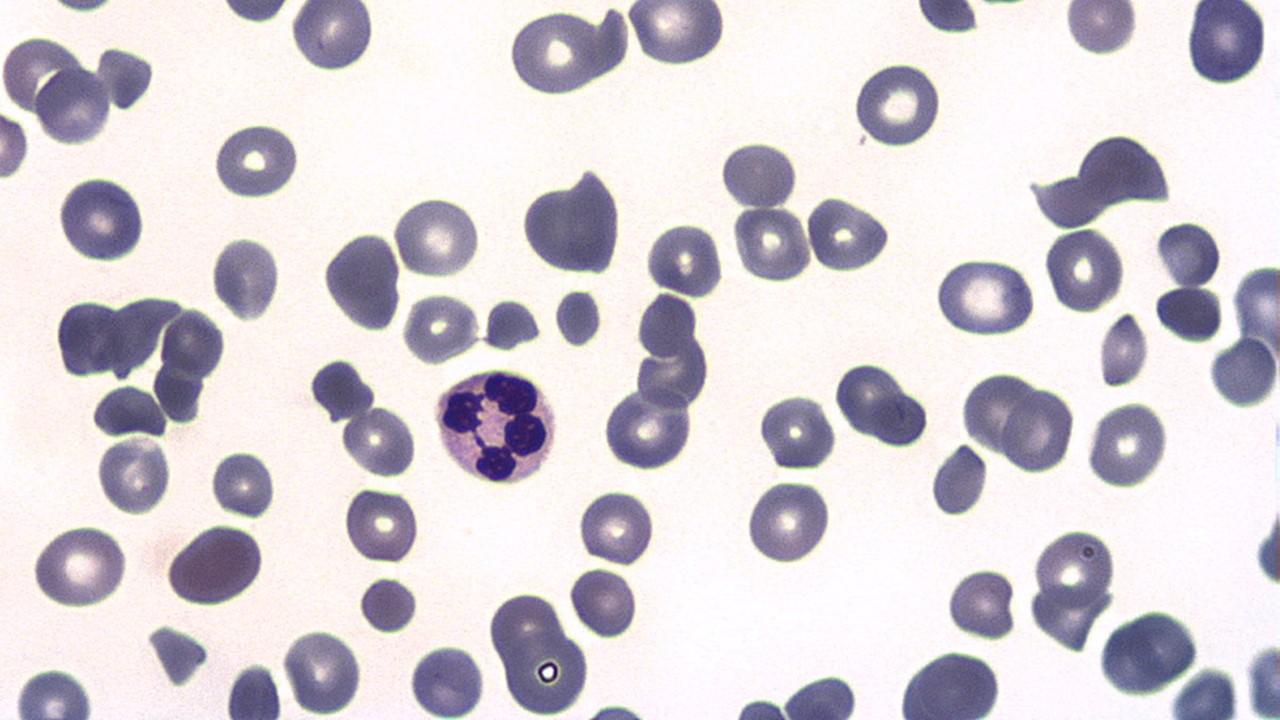Platelets: (56, 172, 148, 266), (210, 118, 305, 200), (206, 234, 283, 322), (95, 436, 173, 518), (717, 138, 799, 211), (942, 568, 1022, 640), (304, 356, 376, 423), (9, 664, 100, 716), (929, 444, 990, 521), (144, 621, 212, 690), (1061, 1, 1139, 58), (88, 383, 168, 438), (1095, 314, 1153, 385), (1155, 285, 1223, 344), (356, 574, 418, 636), (224, 660, 285, 716), (552, 287, 604, 349), (1244, 638, 1280, 718), (1250, 498, 1280, 590), (914, 2, 982, 34), (49, 0, 117, 14)
RBC: (505, 7, 608, 98), (932, 255, 1038, 340), (29, 522, 129, 610), (320, 228, 403, 332), (852, 57, 942, 152), (56, 170, 146, 265), (501, 624, 592, 714), (744, 475, 832, 567), (600, 386, 694, 472), (209, 118, 304, 203), (391, 192, 481, 281), (1085, 396, 1169, 491), (1183, 0, 1267, 90), (283, 623, 364, 716), (1044, 224, 1124, 316), (802, 194, 892, 274), (1032, 526, 1116, 610), (2, 32, 82, 118), (730, 202, 813, 283), (626, 1, 726, 68), (758, 390, 838, 473), (95, 432, 172, 517), (962, 368, 1038, 454), (342, 483, 420, 566), (644, 219, 724, 299), (575, 487, 656, 566), (35, 63, 112, 146), (1001, 387, 1073, 475), (290, 0, 375, 74), (408, 640, 490, 716), (400, 290, 479, 366), (716, 138, 798, 211), (340, 402, 418, 478), (488, 590, 563, 668), (833, 360, 906, 439), (945, 563, 1018, 641), (1028, 582, 1106, 652), (568, 562, 638, 640), (1207, 334, 1277, 410), (162, 302, 228, 381), (208, 446, 277, 520), (9, 663, 98, 717), (1156, 218, 1224, 288), (89, 381, 169, 440), (1096, 310, 1152, 389), (1154, 282, 1224, 345), (1061, 1, 1137, 59), (1166, 664, 1242, 718), (357, 574, 420, 634), (480, 296, 542, 349), (0, 103, 30, 184)
WBC: (702, 0, 1280, 720), (22, 185, 790, 720), (0, 0, 446, 454), (973, 0, 1277, 372), (432, 362, 563, 490), (518, 163, 626, 277), (1094, 608, 1202, 698), (162, 520, 269, 608), (321, 226, 403, 335), (894, 648, 1008, 720), (602, 388, 696, 474), (1181, 0, 1271, 88), (50, 294, 126, 380), (1252, 486, 1280, 597), (216, 0, 295, 26)
